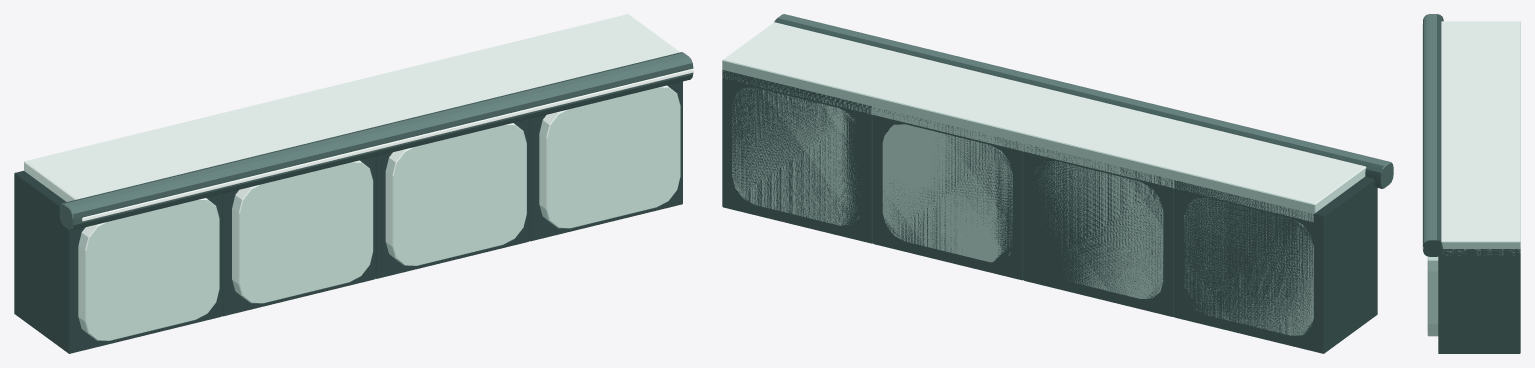
Rendered from Terrain_TopRun4L.gltf.
3 views of the same model, side by side, from view 1: azimuth 30°, elevation 25°; view 2: azimuth 150°, elevation 25°; view 3: azimuth 270°, elevation 25° (orthographic). The views are drawn at different scales.
Visible parts, largest first — view 1: Terrain_TopRun4L_baked; view 2: Terrain_TopRun4L_baked; view 3: Terrain_TopRun4L_baked.
Boxes of the visible parts, box(x1,y1,x2,y2) form: Terrain_TopRun4L_baked: box(14, 14, 693, 353); Terrain_TopRun4L_baked: box(722, 14, 1393, 353); Terrain_TopRun4L_baked: box(1422, 14, 1520, 353).
Bounding box in the file's own units: 4.04 × 0.9495 × 0.74.
